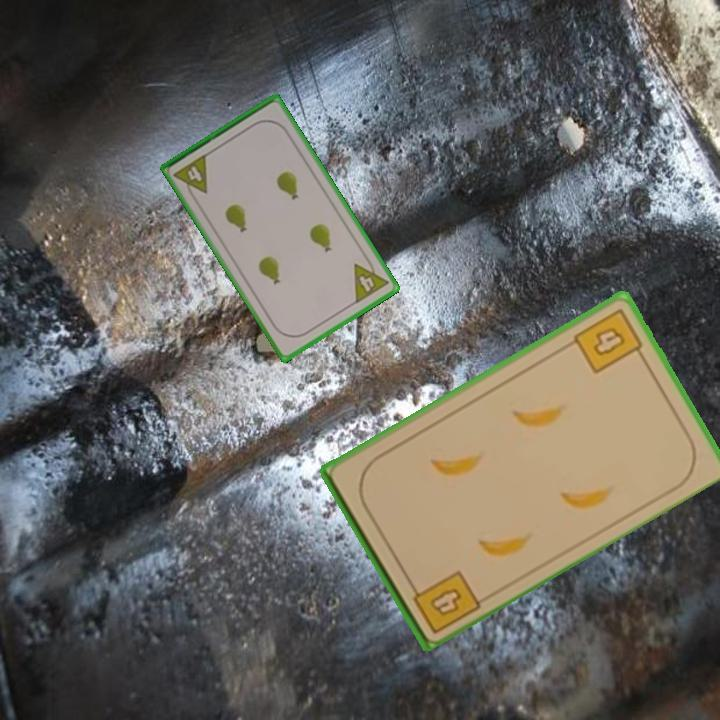4b: (569, 304, 648, 377), (405, 566, 483, 637)
4p: (350, 253, 392, 306), (170, 150, 211, 202)
